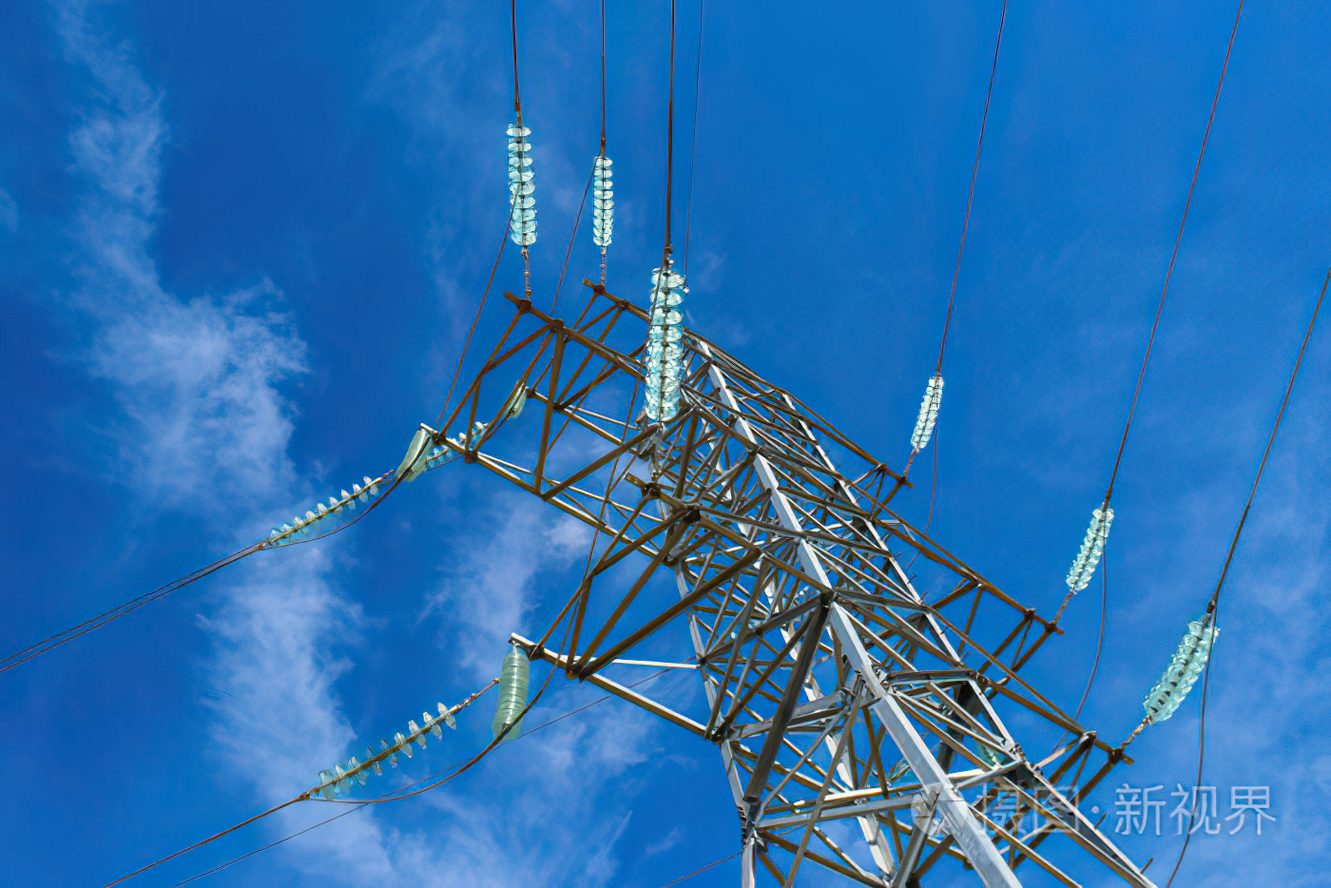insulator: (318, 704, 460, 799), (267, 473, 381, 550), (640, 265, 692, 423), (1144, 617, 1218, 721), (502, 124, 543, 250), (1066, 506, 1114, 593), (421, 418, 488, 479), (491, 653, 533, 737), (588, 156, 617, 252), (911, 377, 944, 458), (401, 427, 431, 482), (510, 379, 534, 422)
